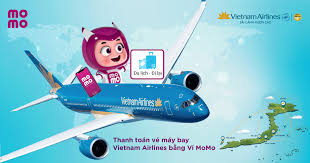maybay_dansu: (9, 21, 219, 152)
